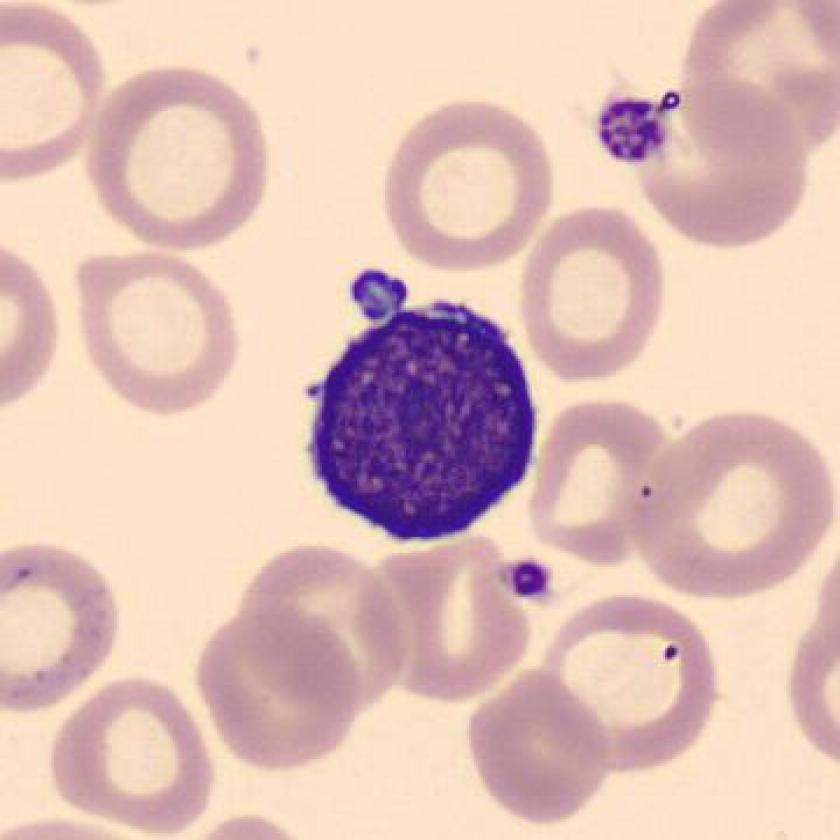lymphocyte: (288, 265, 556, 554)
